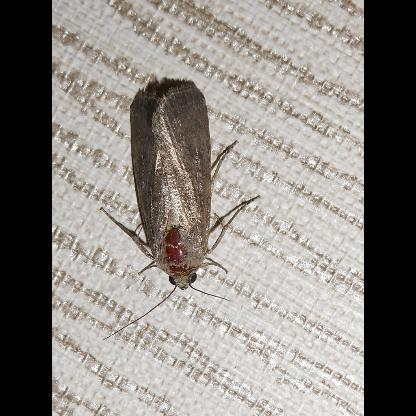Fall Armyworm Moth: (96, 80, 264, 345)
